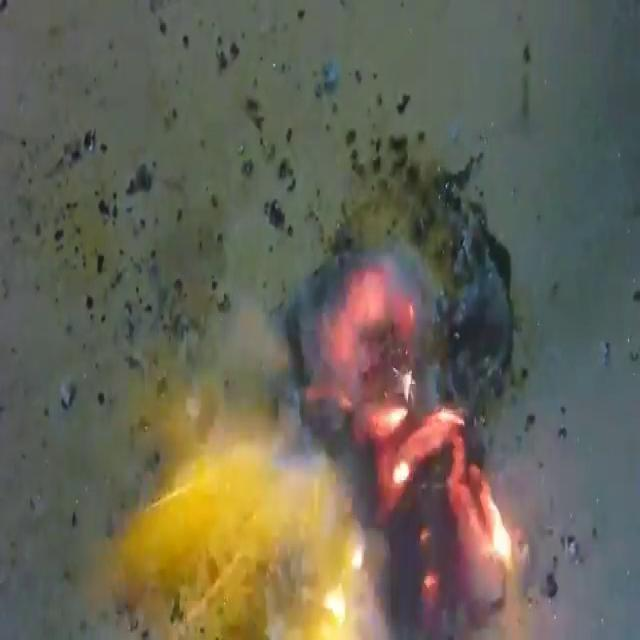Fire: (85, 129, 571, 640)
